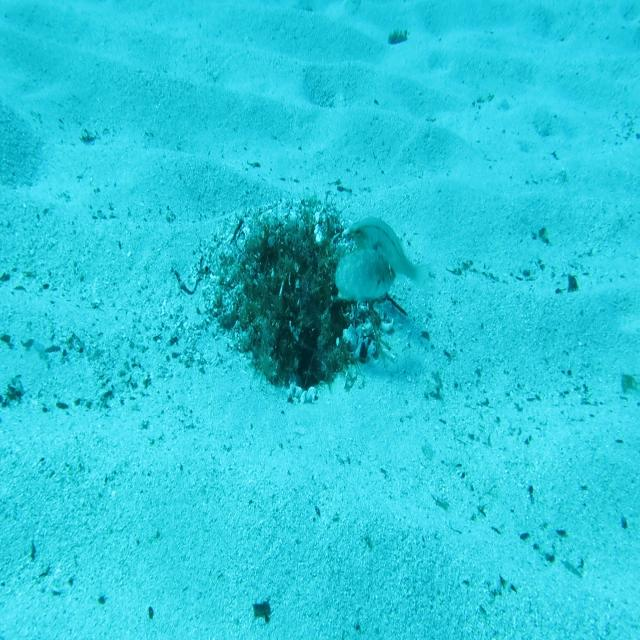DAN_CIRC: (334, 233, 397, 310)
core_nest: (278, 234, 328, 276)
female: (346, 212, 433, 296)
nest: (195, 182, 402, 414)
